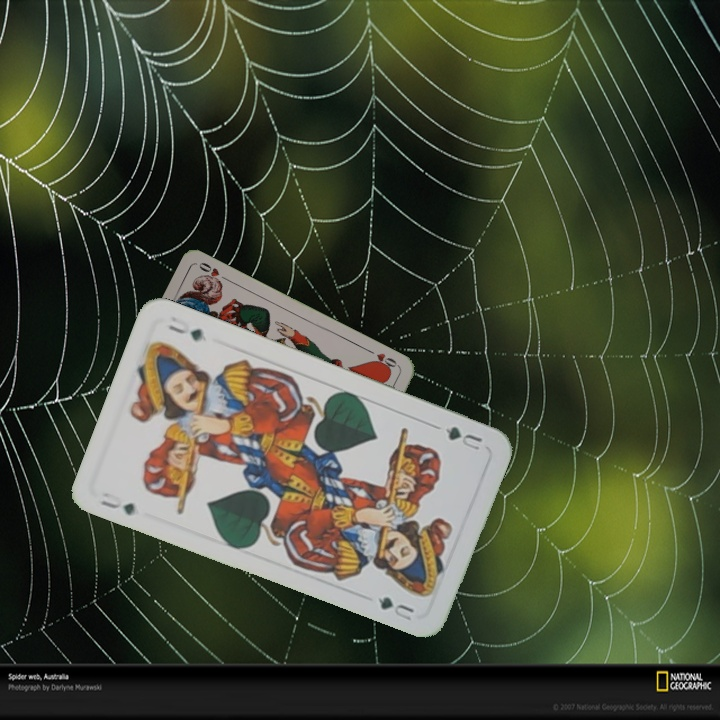GU: (440, 422, 485, 453), (95, 488, 138, 518)
HO: (363, 345, 401, 373)
